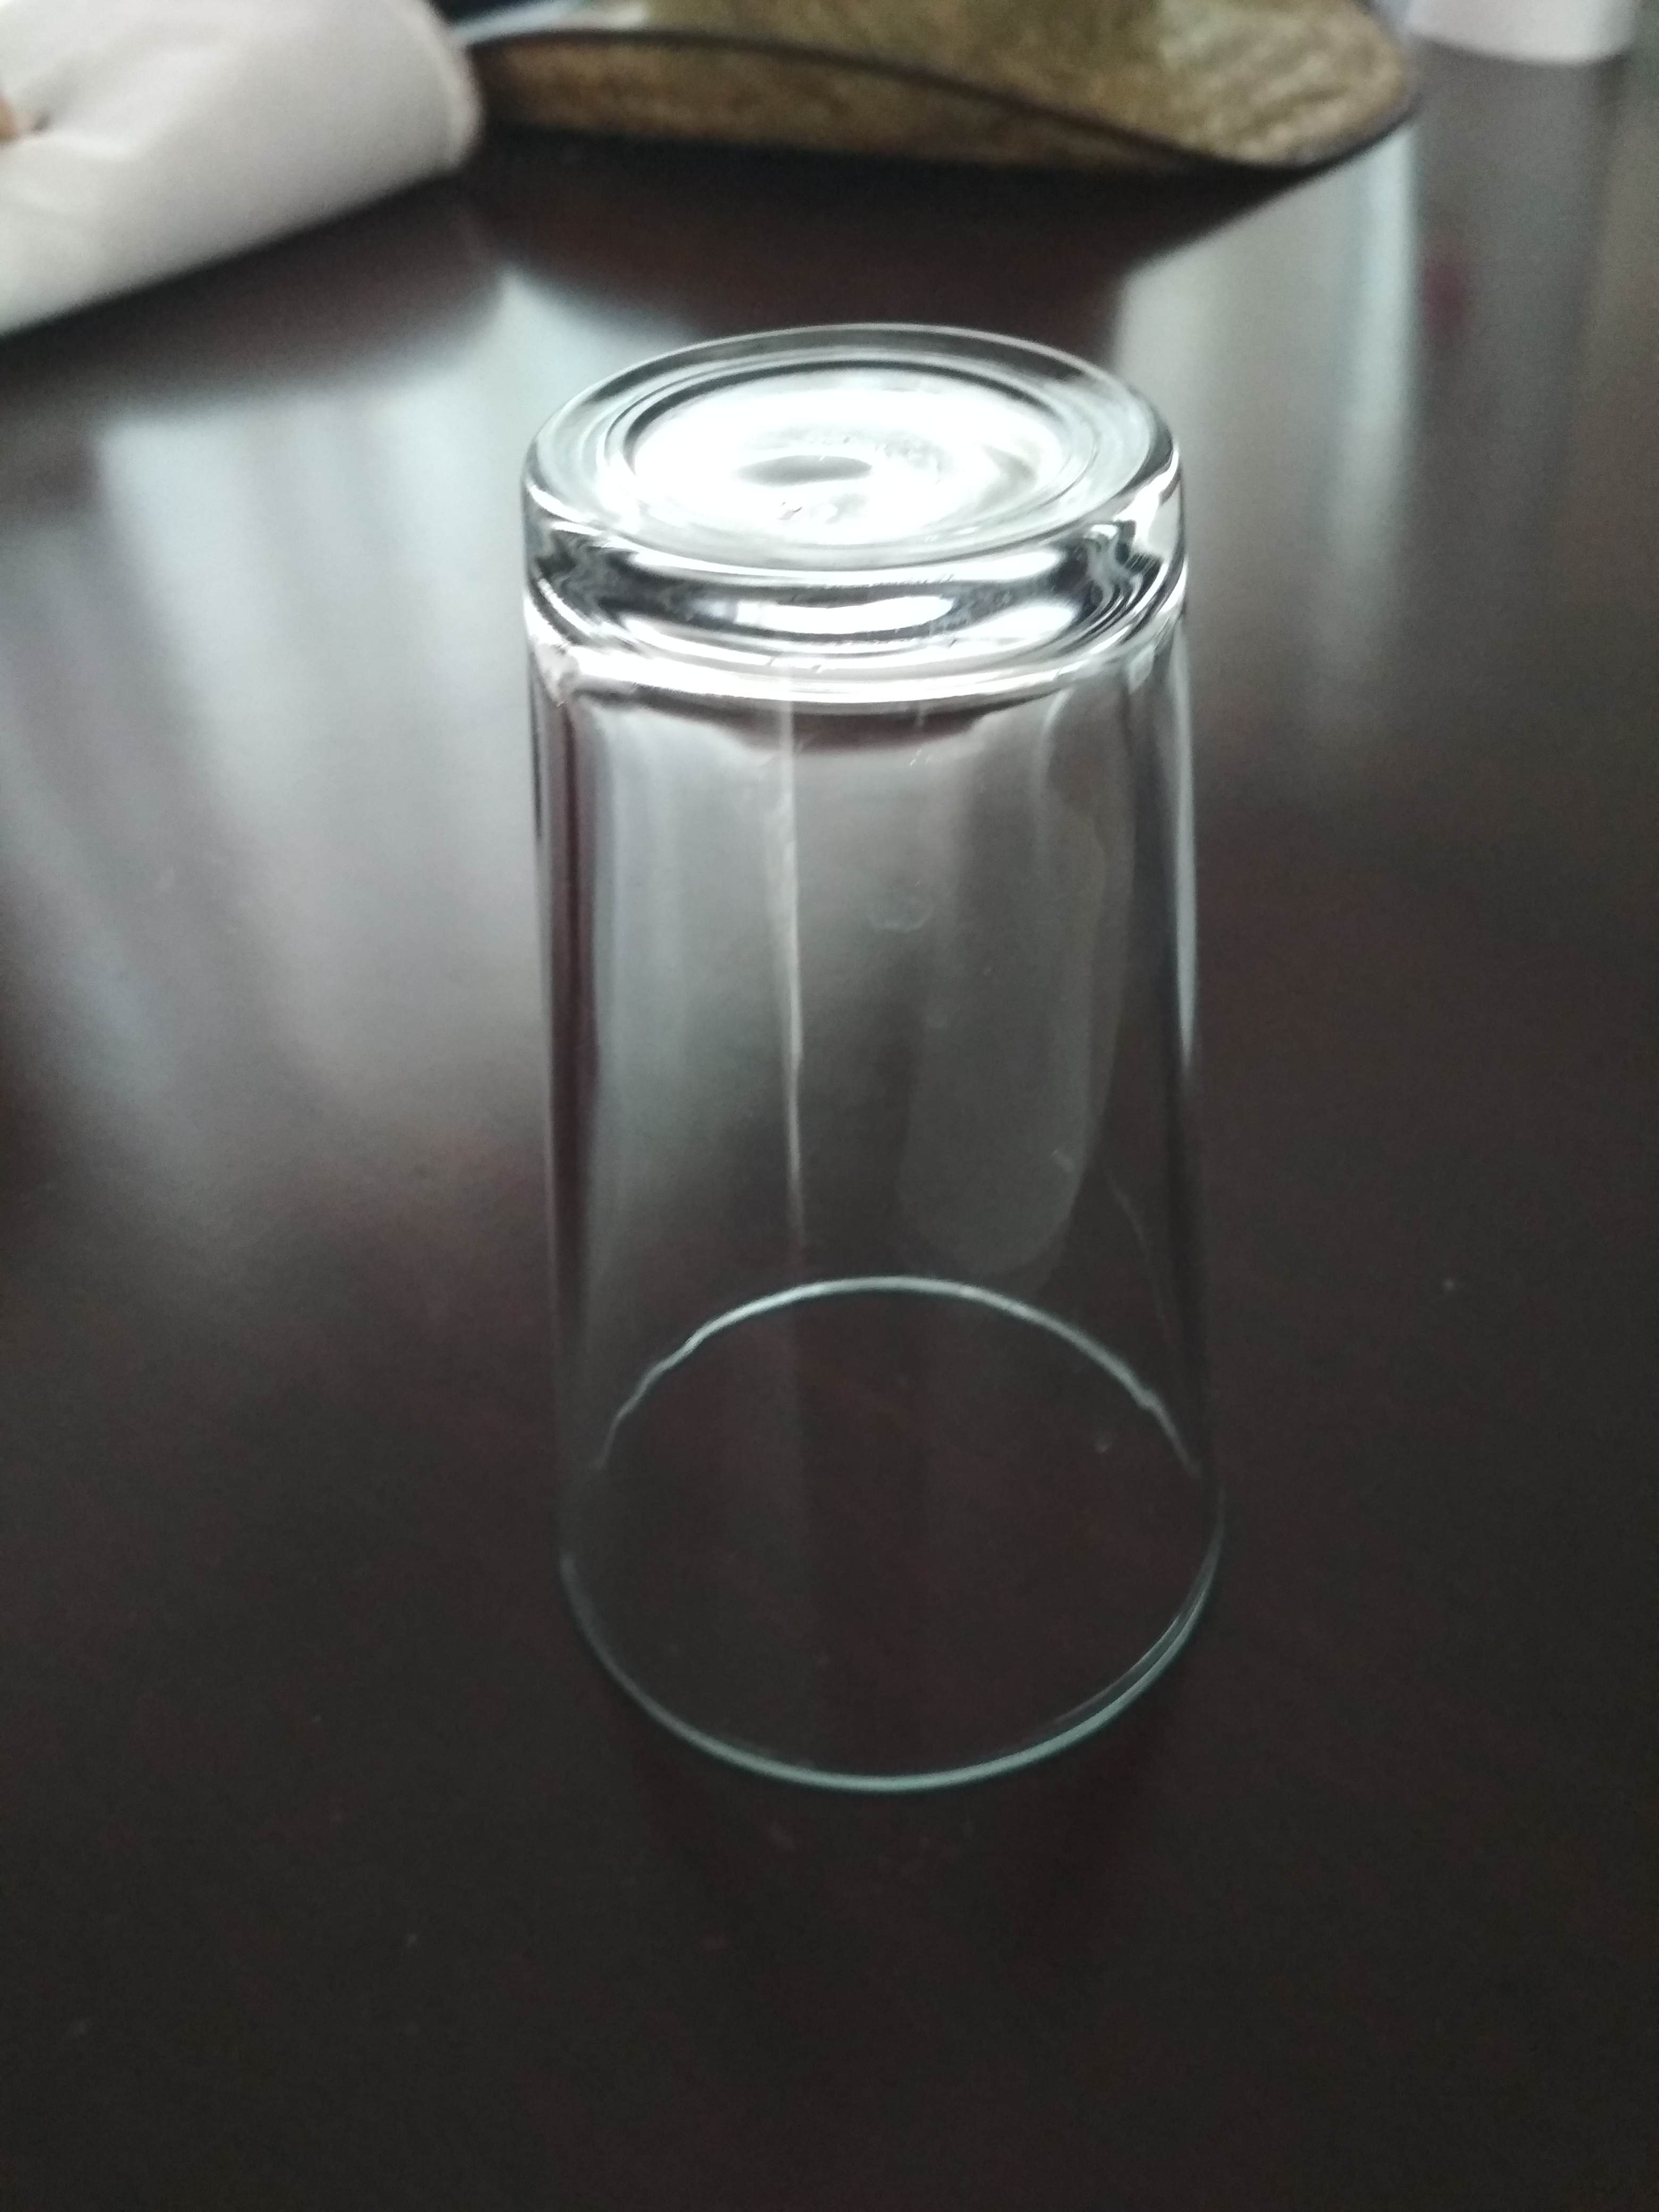glass: (472, 291, 1270, 1824)
